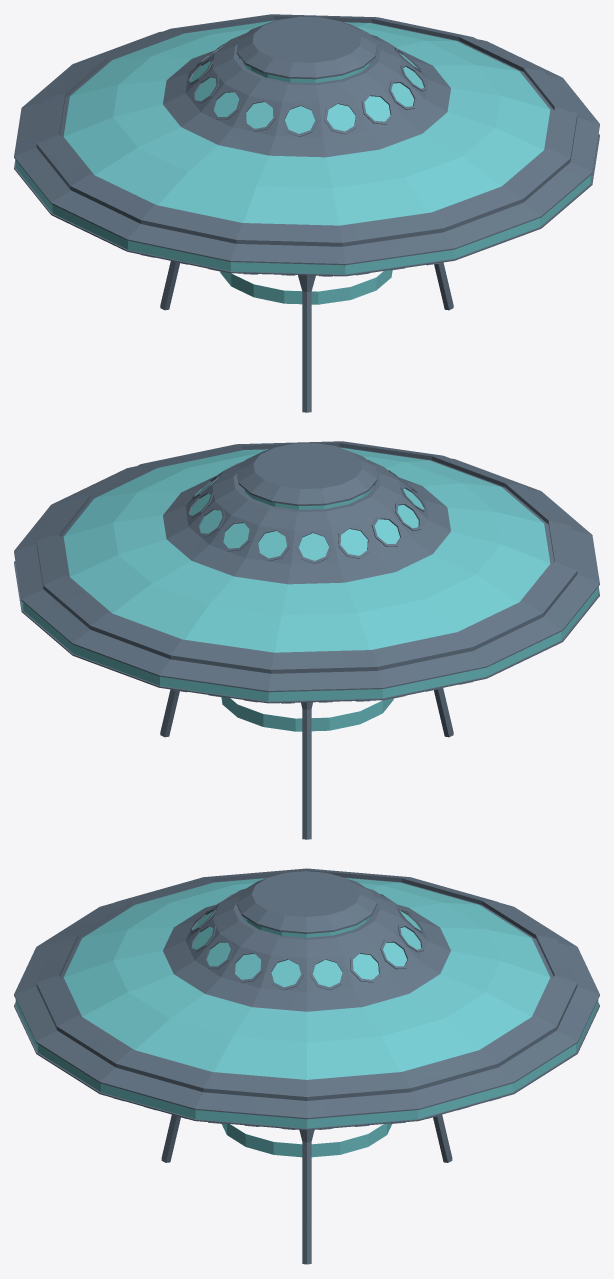
File: UFO.fbx
3 views of the same model, one above another, from view 1: azimuth 30°, elevation 25°; view 2: azimuth 150°, elevation 25°; view 3: azimuth 270°, elevation 25° (orthographic).
Visible parts, largest first — view 1: UFO, UFO_light; view 2: UFO, UFO_light; view 3: UFO, UFO_light.
Part boxes in pixels (x1=…): UFO: x1=14, y1=14, x2=599, y2=412; UFO_light: x1=220, y1=270, x2=392, y2=304; UFO: x1=14, y1=441, x2=599, y2=839; UFO_light: x1=221, y1=697, x2=393, y2=731; UFO: x1=14, y1=868, x2=599, y2=1264; UFO_light: x1=222, y1=1123, x2=391, y2=1157.
Size of the model in its own units: 8.92 by 5.06 by 8.92.
